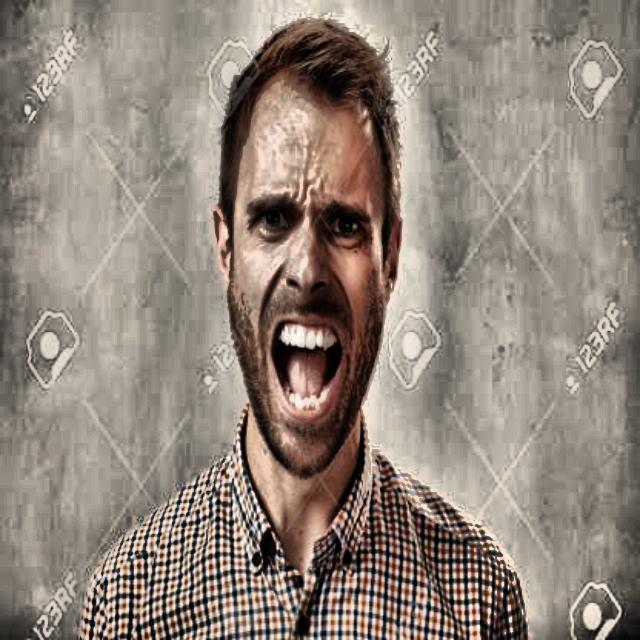angry: (202, 11, 414, 486)
